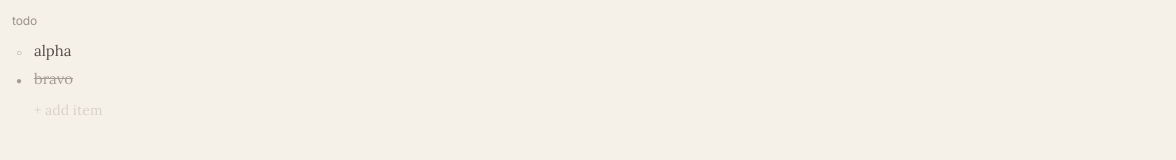
Scenario: BlockEditor › adds an item on Enter in the add field
The image size is (1176, 160).
Type "charlie" into the field with class "add-input" at (588, 110), box [12,97,1164,123]
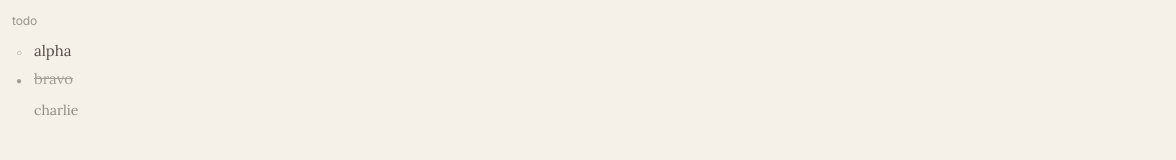
Press Enter in the field with class "add-input", box [12,97,1164,123]
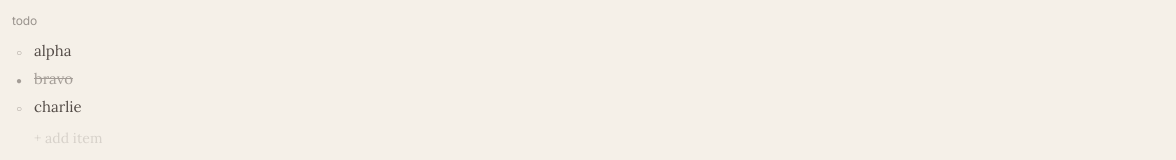
Expected: the number of elements with class "block-item" is 3, [12,41,72,60]; [12,69,73,88]; [12,97,82,116]
